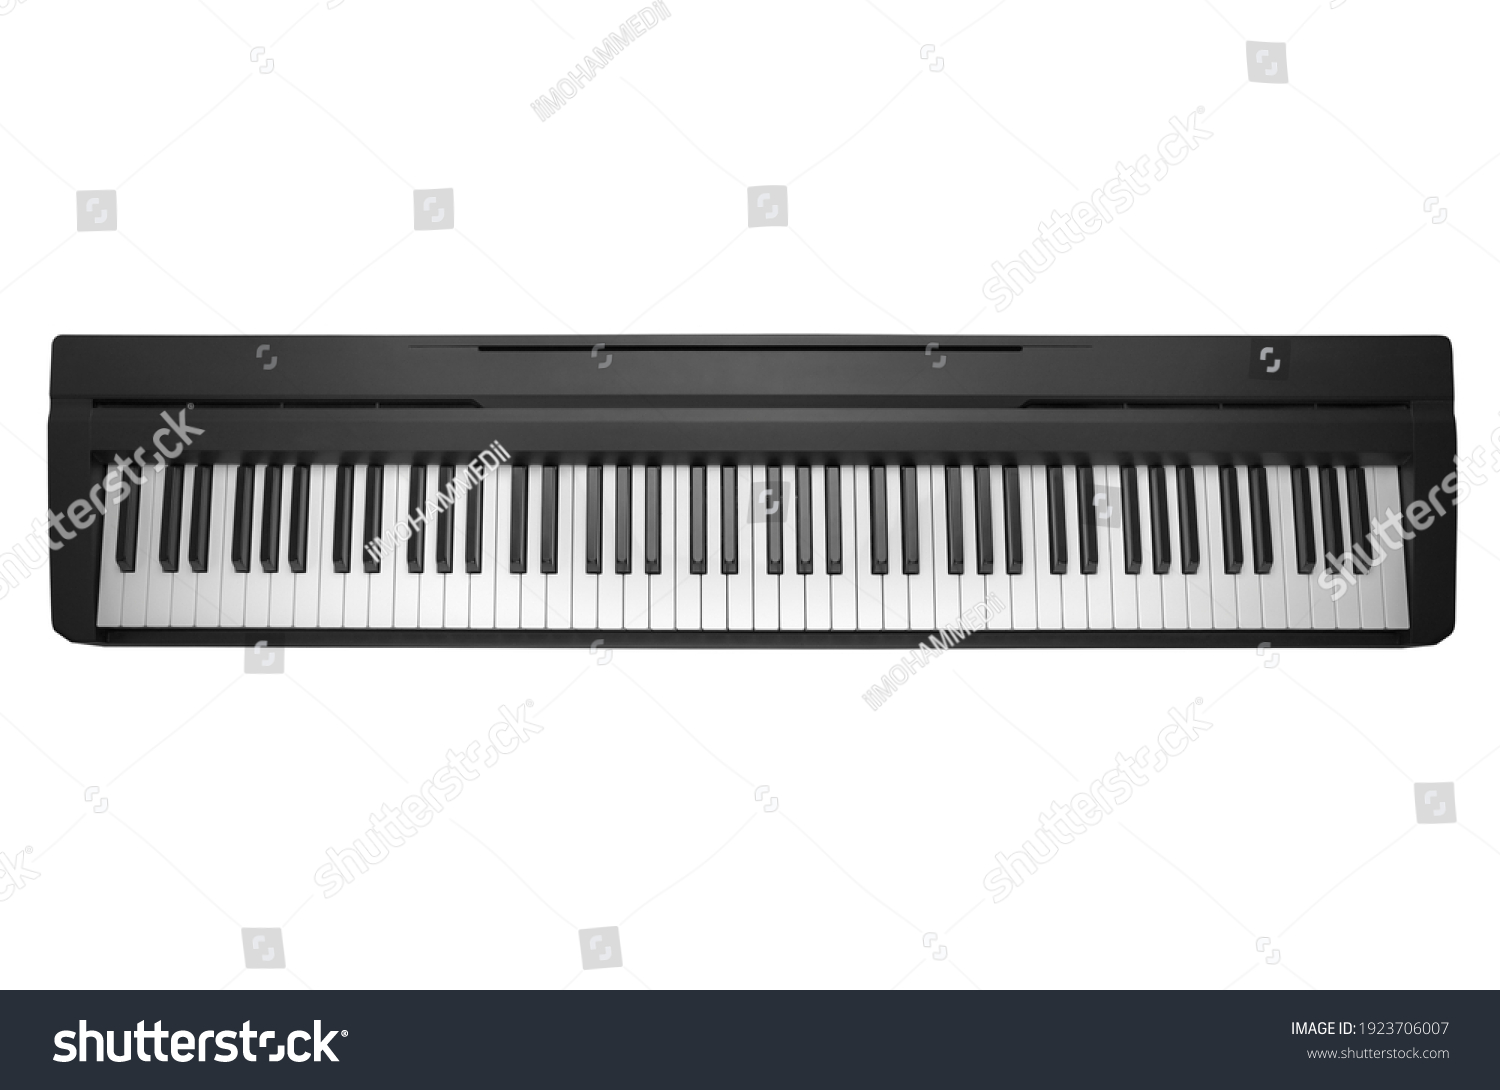Piano: (38, 303, 1478, 686)
